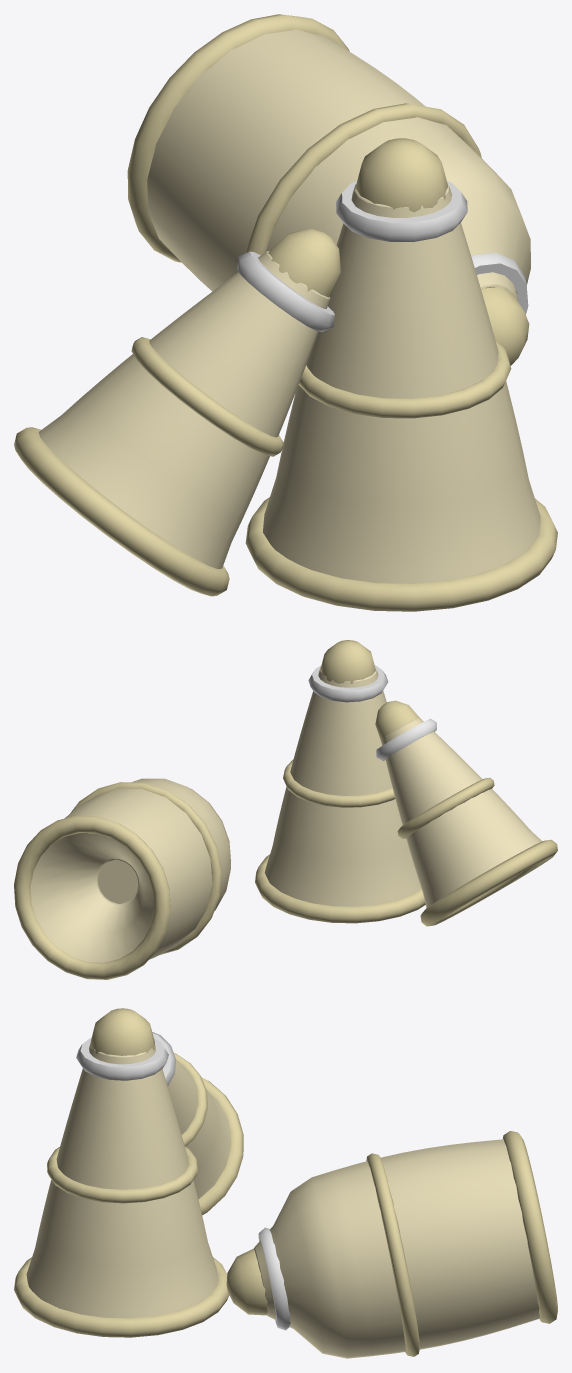
Rendered from pf_bubo_3.glb.
3 renders of one model, top to bottom at view 1: azimuth 30°, elevation 25°; view 2: azimuth 150°, elevation 25°; view 3: azimuth 270°, elevation 25°, orthographic. The views are drawn at different scales.
Visible parts, largest first — view 1: bubo_3_pf_trap, bubo_3_bamboo, bubo_3_pb_rope; view 2: bubo_3_pf_trap, bubo_3_bamboo, bubo_3_pb_rope; view 3: bubo_3_pf_trap, bubo_3_bamboo, bubo_3_pb_rope.
Part boxes in pixels (x1,y1,x2,y2): bubo_3_pf_trap: (38,29,540,583); bubo_3_bamboo: (14,14,557,611); bubo_3_pb_rope: (237,181,528,331); bubo_3_pf_trap: (30,667,541,962); bubo_3_bamboo: (14,640,557,979); bubo_3_pb_rope: (308,665,436,761); bubo_3_pf_trap: (26,1042,539,1358); bubo_3_bamboo: (14,1008,557,1356); bubo_3_pb_rope: (76,1032,290,1330).
Bounding box in the file's own units: 1.66 × 1.02 × 1.77.
